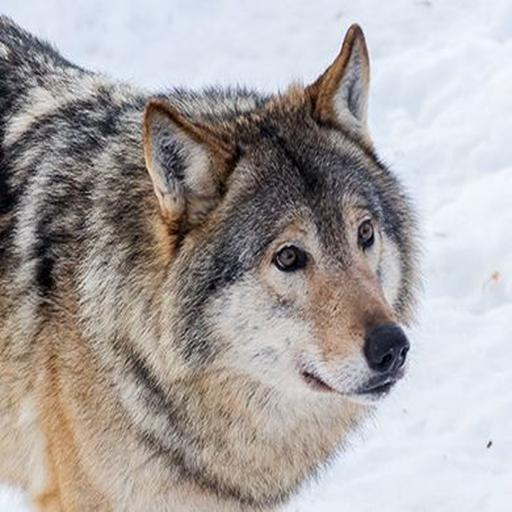Wolf: (0, 0, 420, 510)
